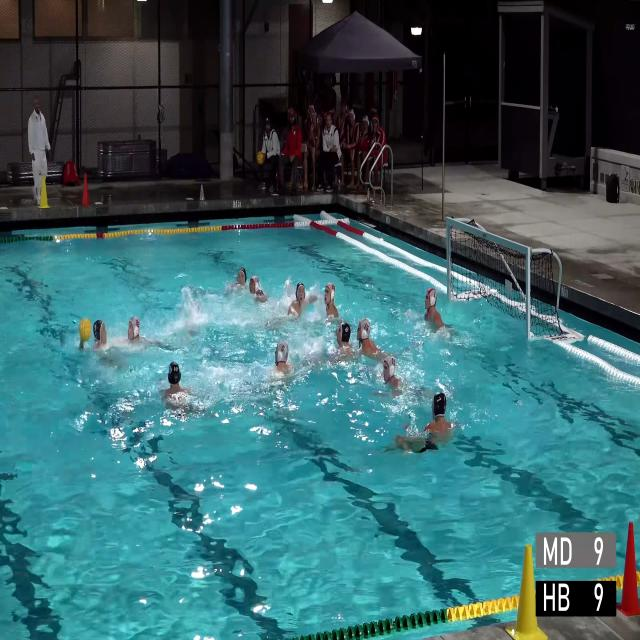ball: (79, 318, 92, 341), (256, 151, 264, 164)
